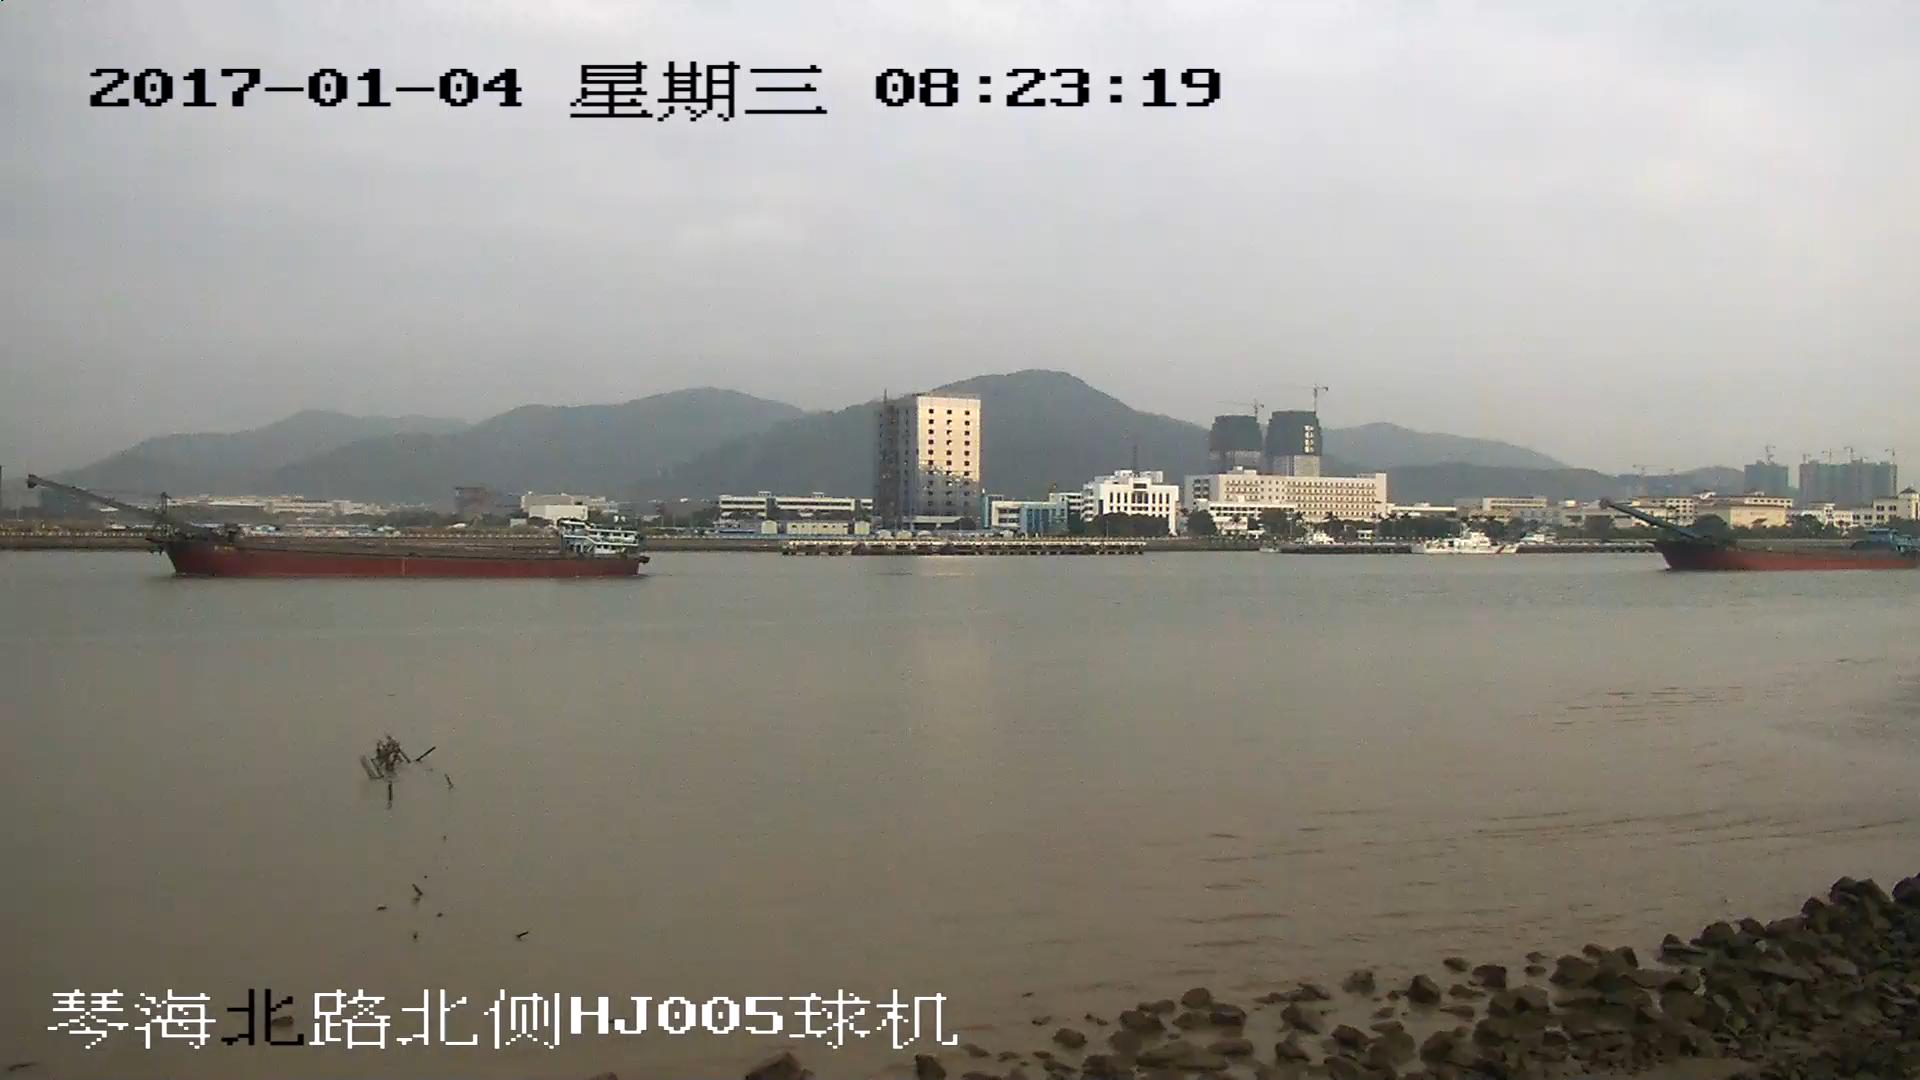bulk cargo carrier: (29, 475, 641, 577), (1602, 498, 1920, 571)
